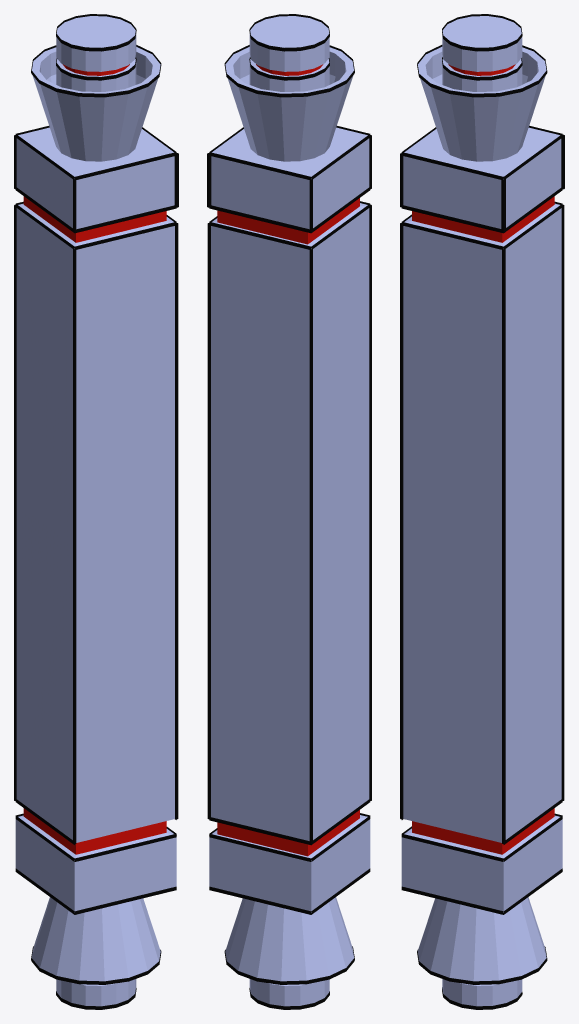
Rendered from player2.glb.
3 renders of one model, left to right at view 1: azimuth 30°, elevation 25°; view 2: azimuth 150°, elevation 25°; view 3: azimuth 330°, elevation 25°, orthographic.
Parts seen in each view (by area): view 1: Cube, Cube.012, Cube.004, Cube.007, Cube.006, Cube.005, Cube.002, Cube.009, Cube.003; view 2: Cube, Cube.007, Cube.004, Cube.012, Cube.006, Cube.005, Cube.002, Cube.008, Cube.009; view 3: Cube, Cube.012, Cube.007, Cube.004, Cube.006, Cube.005, Cube.001, Cube.009, Cube.010, Cube.003.
Boxes of the visible parts, x1,y1,x2,y2 form: Cube: (15, 16, 176, 1006); Cube.012: (73, 223, 178, 844); Cube.004: (16, 126, 176, 914); Cube.007: (14, 204, 16, 800); Cube.006: (31, 45, 161, 984); Cube.005: (56, 14, 136, 1009); Cube.002: (15, 134, 74, 914); Cube.009: (15, 204, 176, 844); Cube.003: (74, 222, 176, 249); Cube: (209, 16, 370, 1006); Cube.007: (207, 223, 312, 844); Cube.004: (209, 126, 369, 914); Cube.012: (369, 204, 371, 800); Cube.006: (224, 45, 354, 984); Cube.005: (249, 14, 329, 1009); Cube.002: (311, 134, 370, 914); Cube.008: (209, 222, 311, 844); Cube.009: (209, 204, 370, 844); Cube: (401, 16, 562, 1006); Cube.012: (400, 223, 505, 844); Cube.007: (561, 204, 564, 800); Cube.004: (401, 125, 562, 914); Cube.006: (417, 45, 547, 984); Cube.005: (442, 14, 522, 1009); Cube.001: (503, 134, 562, 914); Cube.009: (401, 204, 562, 844); Cube.010: (501, 134, 564, 232); Cube.003: (401, 222, 503, 249).
Size of the model in its own units: 2.05 by 16.59 by 2.05.
